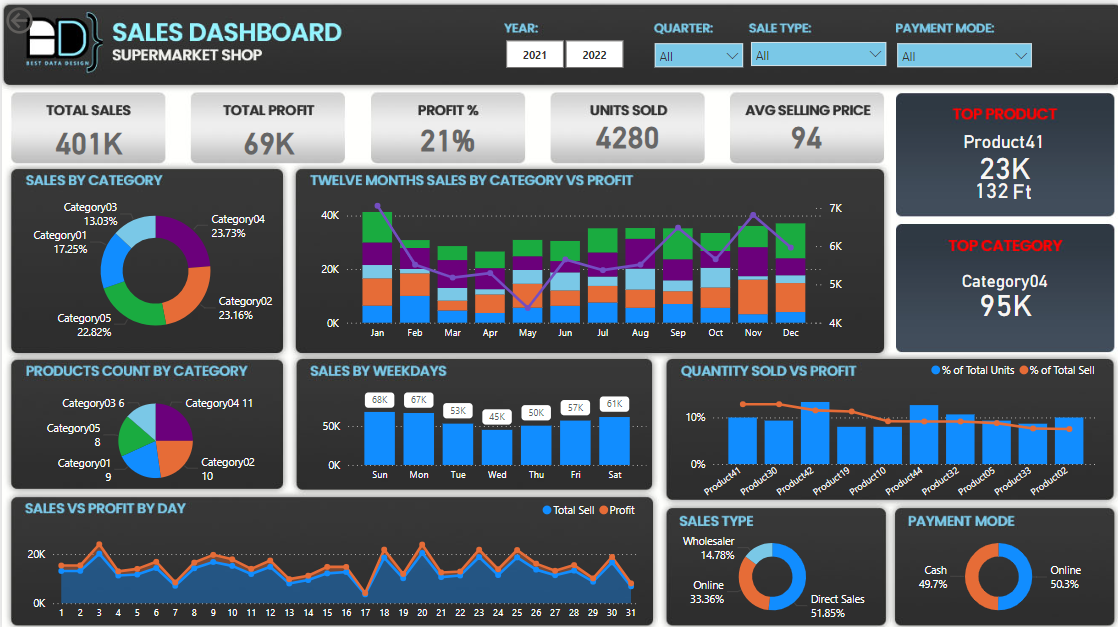

The dashboard page shown, as its layout file describes it:
{"tool":"powerbi","page":{"name":"Page 1","canvas":[1280,720],"ordinal":0},"visuals":[{"type":"slicer","title":"YEAR","fields":{"Values":["InputData.Year"]},"box":[550,35.7,184.3,45.7],"z":0},{"type":"slicer","title":"QUARTER","fields":{"Values":["InputData.Quarter"]},"box":[735.7,35.7,121.4,63],"z":1000},{"type":"card","title":"Total Sales","fields":{"Values":["Sum(InputData.Total Sell)"]},"box":[24.7,123.4,150,70],"z":2000},{"type":"card","title":"Total Profit","fields":{"Values":["Sum(InputData.Profit)"]},"box":[229.6,122.4,150,70],"z":3000},{"type":"card","title":"Profit %","fields":{"Values":["InputData.Profit %"]},"box":[434.5,119.4,150,70],"z":4000},{"type":"donutChart","fields":{"Category":["InputData.SALE TYPE"],"Y":["Sum(InputData.Total Sell)"]},"box":[760,601.2,241.2,108.8],"z":5000},{"type":"donutChart","fields":{"Category":["InputData.PAYMENT MODE"],"Y":["Sum(InputData.Total Sell)"]},"box":[1018.8,601.2,241.2,108.8],"z":6000},{"type":"actionButton","box":[0,0,100,40],"z":7000},{"type":"card","fields":{"Values":["Sum(InputData.Total Sell)"]},"box":[1101.6,162,89.3,51],"z":7000,"group":"g1"},{"type":"card","fields":{"Values":["Sum(InputData.Total Sell)"]},"box":[1098,320.1,96.5,45.8],"z":8000,"group":"g2"},{"type":"stackedAreaChart","fields":{"Y":["Sum(InputData.Total Sell)","Sum(InputData.Profit)"],"Category":["InputData.Day"]},"box":[24.3,560,708.6,154.3],"z":8000},{"type":"slicer","fields":{"Values":["InputData.SALE TYPE"]},"box":[846.4,34.8,174.9,63.9],"z":9000},{"type":"slicer","fields":{"Values":["InputData.PAYMENT MODE"]},"box":[1012.9,35.7,174.3,63],"z":10000},{"type":"card","fields":{"Values":["Min(InputData.MasterData.CATEGORY)"]},"box":[1080,297.7,132.5,42.5],"z":10000,"group":"g2"},{"type":"card","title":"Units Sold","fields":{"Values":["Sum(InputData.QUANTITY)"]},"box":[639.4,116.4,150,70],"z":11000},{"type":"card","fields":{"Values":["Min(InputData.MasterData.PRODUCT)"]},"box":[1081,138.9,130.4,39.7],"z":11000,"group":"g1"},{"type":"columnChart","fields":{"Category":["InputData.Day Name"],"Y":["Sum(InputData.Total Sell)"]},"box":[361.9,434.3,380,121.9],"z":12000},{"type":"card","fields":{"Values":["Sum(InputData.QUANTITY)"]},"box":[1076.1,187.1,111,53.1],"z":13000,"group":"g1"},{"type":"lineStackedColumnComboChart","fields":{"Category":["InputData.Month Name"],"Y":["Sum(InputData.Total Sell)"],"Series":["InputData.MasterData.CATEGORY"],"Y2":["Sum(InputData.Profit)"]},"box":[360,198.8,605,195],"z":13000},{"type":"card","fields":{"Values":["Min(InputData.MasterData.UOM)"]},"box":[1138.8,192,55.5,45.8],"z":14000,"group":"g1"},{"type":"donutChart","fields":{"Category":["InputData.MasterData.CATEGORY"],"Y":["Sum(InputData.Total Sell)"]},"box":[25,218.8,300,175],"z":14000},{"type":"lineStackedColumnComboChart","fields":{"Category":["InputData.MasterData.PRODUCT"],"Y":["Divide(CountNonNull(InputData.PRODUCT ID), ScopedEval(CountNonNull(InputData.PRODUCT ID), []))"],"Y2":["Divide(Avg(InputData.Total Sell), ScopedEval(Avg(InputData.Total Sell), []))"]},"box":[775.7,400.5,482.6,176.1],"z":15000},{"type":"card","title":"Avg Price/ Product","fields":{"Values":["InputData.Avg Sell Price"]},"box":[844.3,116.4,150,70],"z":16000},{"type":"pieChart","fields":{"Category":["InputData.MasterData.CATEGORY"],"Y":["Count(InputData.PRODUCT ID)"]},"box":[13.3,441.6,325.7,118.2],"z":17000},{"type":"group","id":"g1","title":"Group 1","box":[1076.1,138.9,135.4,101.3],"z":18000},{"type":"group","id":"g2","title":"Group 2","box":[1080,297.7,132.5,68.3],"z":19000}]}

Visuals, with their boxes in screenshot pixels (x1, y1, x2, y2), scaled from the page's 1280x720 canvas onto the 1118x627 screenshot:
"YEAR" slicer: {"x1": 480, "y1": 31, "x2": 641, "y2": 71}
"QUARTER" slicer: {"x1": 643, "y1": 31, "x2": 749, "y2": 86}
"Total Sales" card: {"x1": 22, "y1": 107, "x2": 153, "y2": 168}
"Total Profit" card: {"x1": 201, "y1": 107, "x2": 332, "y2": 168}
"Profit %" card: {"x1": 380, "y1": 104, "x2": 511, "y2": 165}
donutChart - InputData.SALE TYPE x Sum(InputData.Total Sell): {"x1": 664, "y1": 524, "x2": 874, "y2": 618}
donutChart - InputData.PAYMENT MODE x Sum(InputData.Total Sell): {"x1": 890, "y1": 524, "x2": 1101, "y2": 618}
actionButton: {"x1": 0, "y1": 0, "x2": 87, "y2": 35}
card - Sum(InputData.Total Sell): {"x1": 962, "y1": 141, "x2": 1040, "y2": 185}
card - Sum(InputData.Total Sell): {"x1": 959, "y1": 279, "x2": 1043, "y2": 319}
stackedAreaChart - Sum(InputData.Total Sell) x Sum(InputData.Profit): {"x1": 21, "y1": 488, "x2": 640, "y2": 622}
slicer - InputData.SALE TYPE: {"x1": 739, "y1": 30, "x2": 892, "y2": 86}
slicer - InputData.PAYMENT MODE: {"x1": 885, "y1": 31, "x2": 1037, "y2": 86}
card - Min(InputData.MasterData.CATEGORY): {"x1": 943, "y1": 259, "x2": 1059, "y2": 296}
"Units Sold" card: {"x1": 558, "y1": 101, "x2": 689, "y2": 162}
card - Min(InputData.MasterData.PRODUCT): {"x1": 944, "y1": 121, "x2": 1058, "y2": 156}
columnChart - InputData.Day Name x Sum(InputData.Total Sell): {"x1": 316, "y1": 378, "x2": 648, "y2": 484}
card - Sum(InputData.QUANTITY): {"x1": 940, "y1": 163, "x2": 1037, "y2": 209}
lineStackedColumnComboChart - InputData.Month Name x Sum(InputData.Total Sell): {"x1": 314, "y1": 173, "x2": 843, "y2": 343}
card - Min(InputData.MasterData.UOM): {"x1": 995, "y1": 167, "x2": 1043, "y2": 207}
donutChart - InputData.MasterData.CATEGORY x Sum(InputData.Total Sell): {"x1": 22, "y1": 191, "x2": 284, "y2": 343}
lineStackedColumnComboChart - InputData.MasterData.PRODUCT x Divide(CountNonNull(InputData.PRODUCT ID), ScopedEval(CountNonNull(InputData.PRODUCT ID), [])): {"x1": 678, "y1": 349, "x2": 1099, "y2": 502}
"Avg Price/ Product" card: {"x1": 737, "y1": 101, "x2": 868, "y2": 162}
pieChart - InputData.MasterData.CATEGORY x Count(InputData.PRODUCT ID): {"x1": 12, "y1": 385, "x2": 296, "y2": 487}
"Group 1" group: {"x1": 940, "y1": 121, "x2": 1058, "y2": 209}
"Group 2" group: {"x1": 943, "y1": 259, "x2": 1059, "y2": 319}
